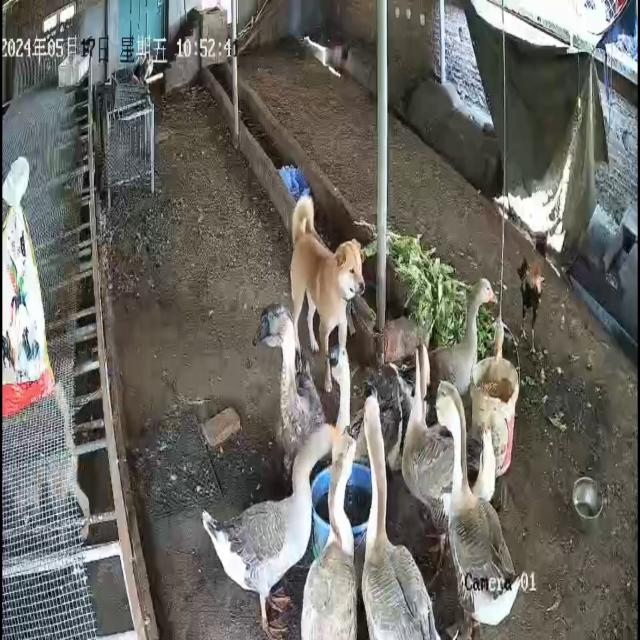dog: (291, 196, 367, 395)
